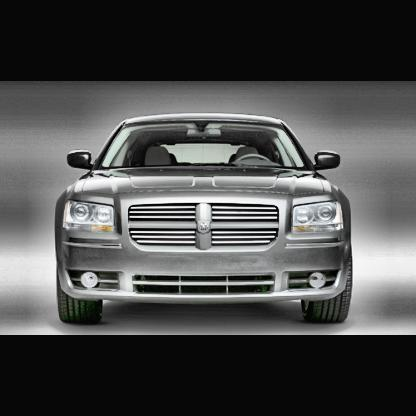Dodge Magnum Wagon 2008: (53, 112, 357, 334)
